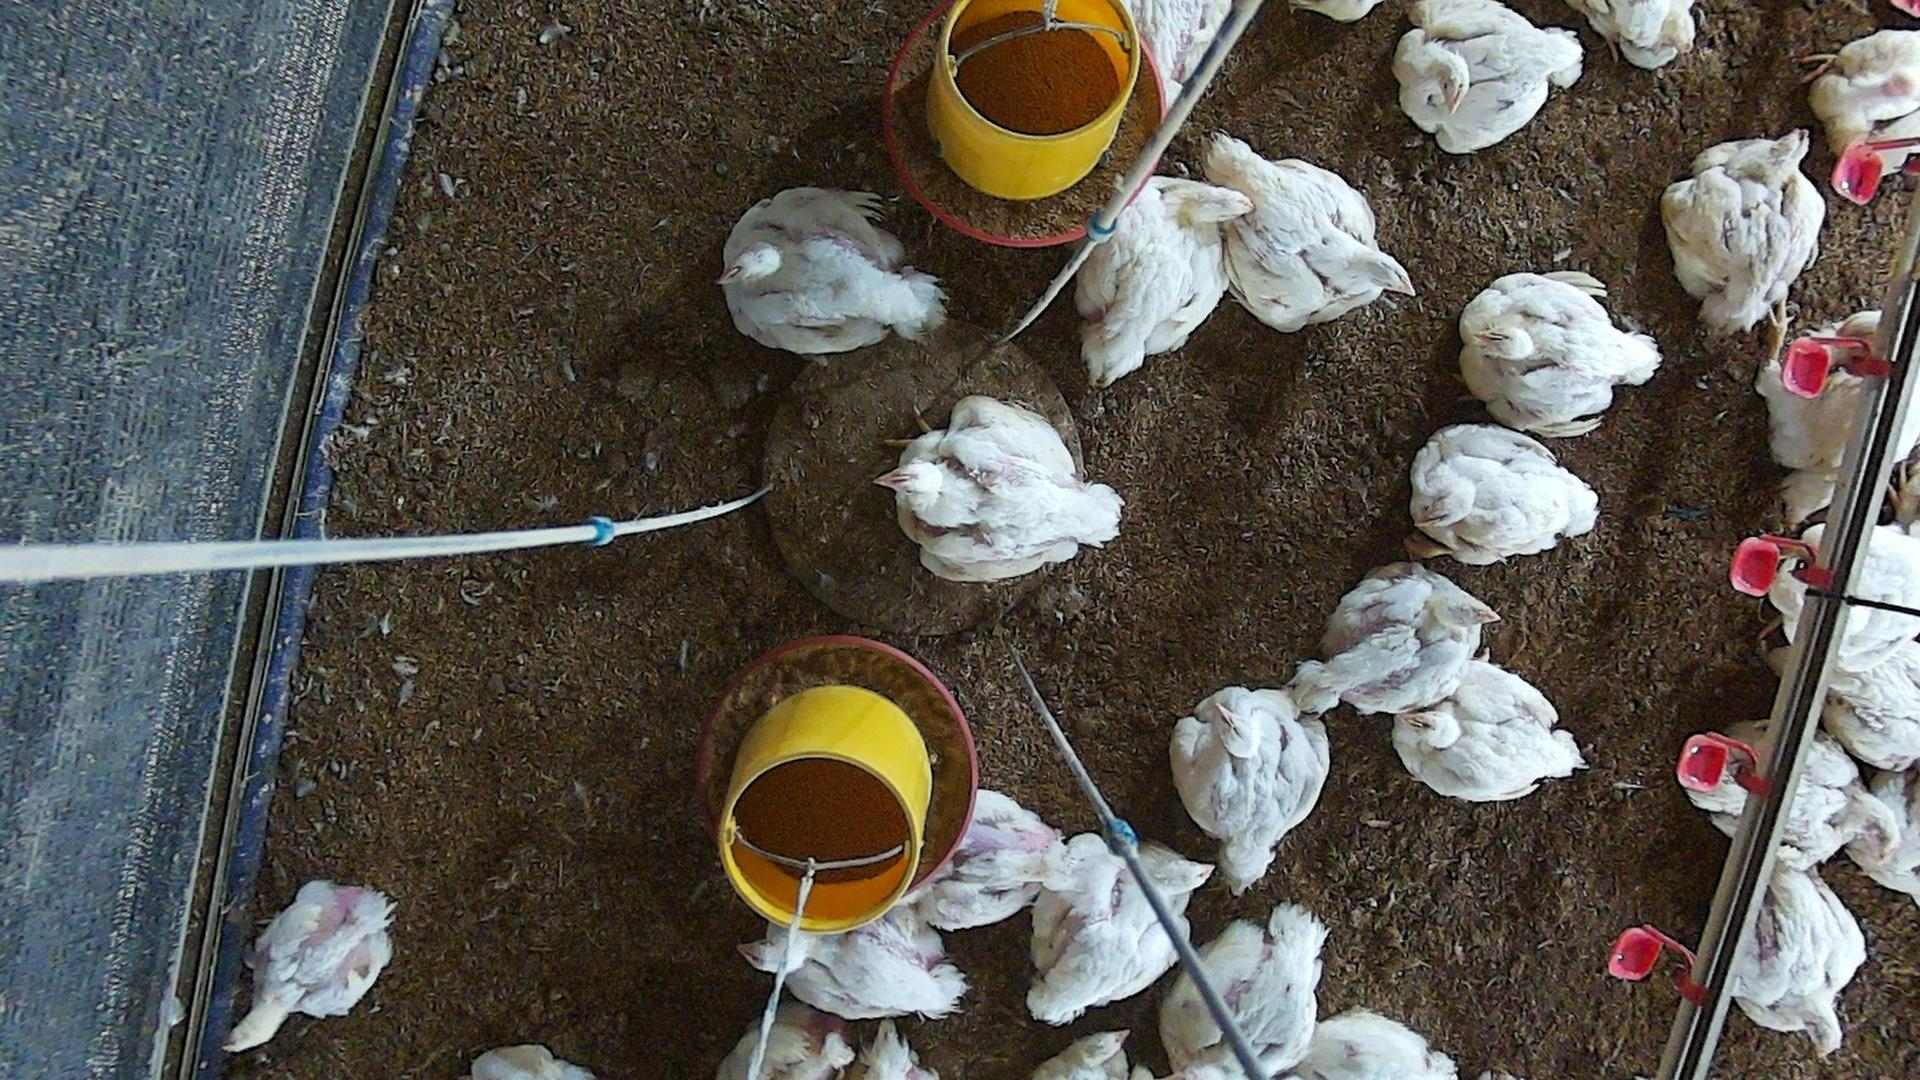ayam_broiler: (876, 398, 1125, 587), (1205, 137, 1420, 338), (719, 186, 940, 356), (1027, 837, 1213, 1026), (1662, 128, 1824, 334), (1076, 175, 1234, 384), (1170, 690, 1329, 894), (1292, 563, 1495, 713), (1722, 852, 1866, 1058), (228, 878, 396, 1052), (1394, 3, 1584, 152), (1458, 270, 1660, 410), (1160, 911, 1327, 1079), (1395, 661, 1582, 802), (1410, 425, 1598, 564), (901, 791, 1076, 932), (754, 927, 965, 1021), (1808, 28, 1920, 173), (1590, 1, 1695, 70)
